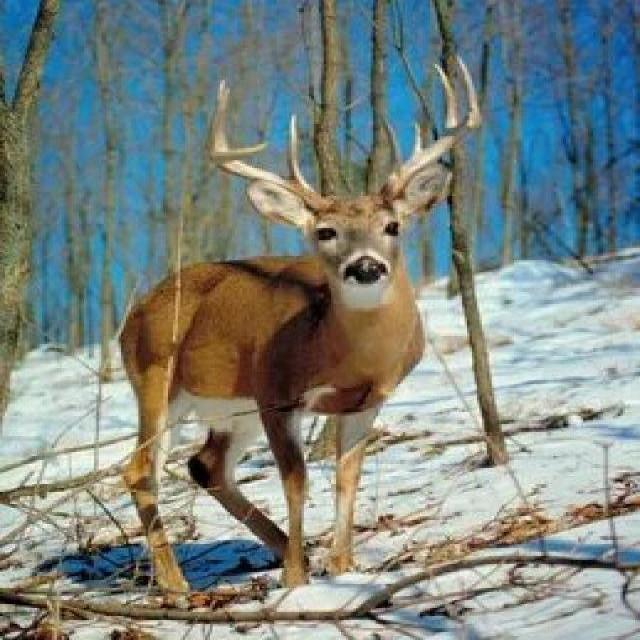deer: (8, 121, 550, 564)
